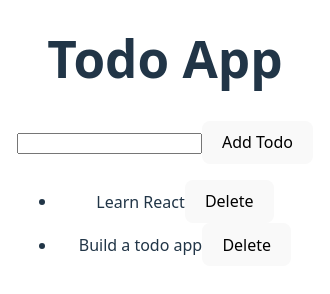
it: TodoApp › adds a new todo
Type "New Todo" into the field at (109, 144), box [17,133,202,154]
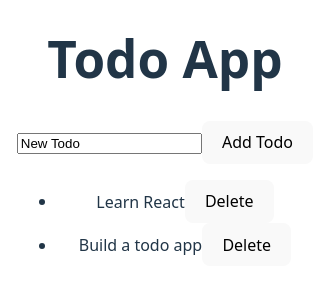
Click the button "Add Todo" at (258, 142), box [202,121,313,164]
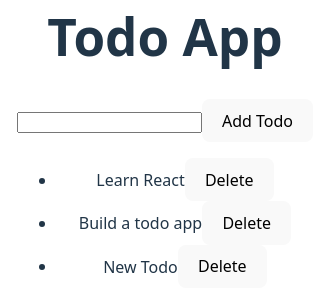
Expected: the list item "New Todo" is shown, [103,255,178,277]
